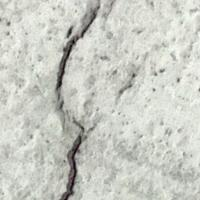crack: (39, 2, 118, 199)
